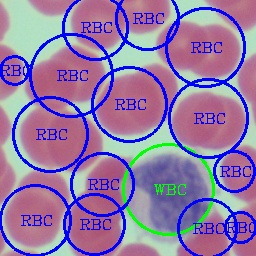RBC: (92, 68, 165, 140), (43, 109, 106, 175), (62, 190, 122, 255), (0, 190, 64, 250), (48, 40, 108, 104), (166, 88, 226, 151), (15, 103, 72, 168), (187, 21, 243, 82), (10, 164, 70, 220), (80, 150, 128, 218), (66, 0, 126, 53), (152, 18, 208, 74), (20, 56, 76, 112), (198, 92, 250, 149), (134, 59, 179, 122), (170, 210, 230, 254), (62, 210, 122, 254), (216, 140, 255, 204), (124, 0, 172, 37)
WBC: (122, 148, 220, 243)
